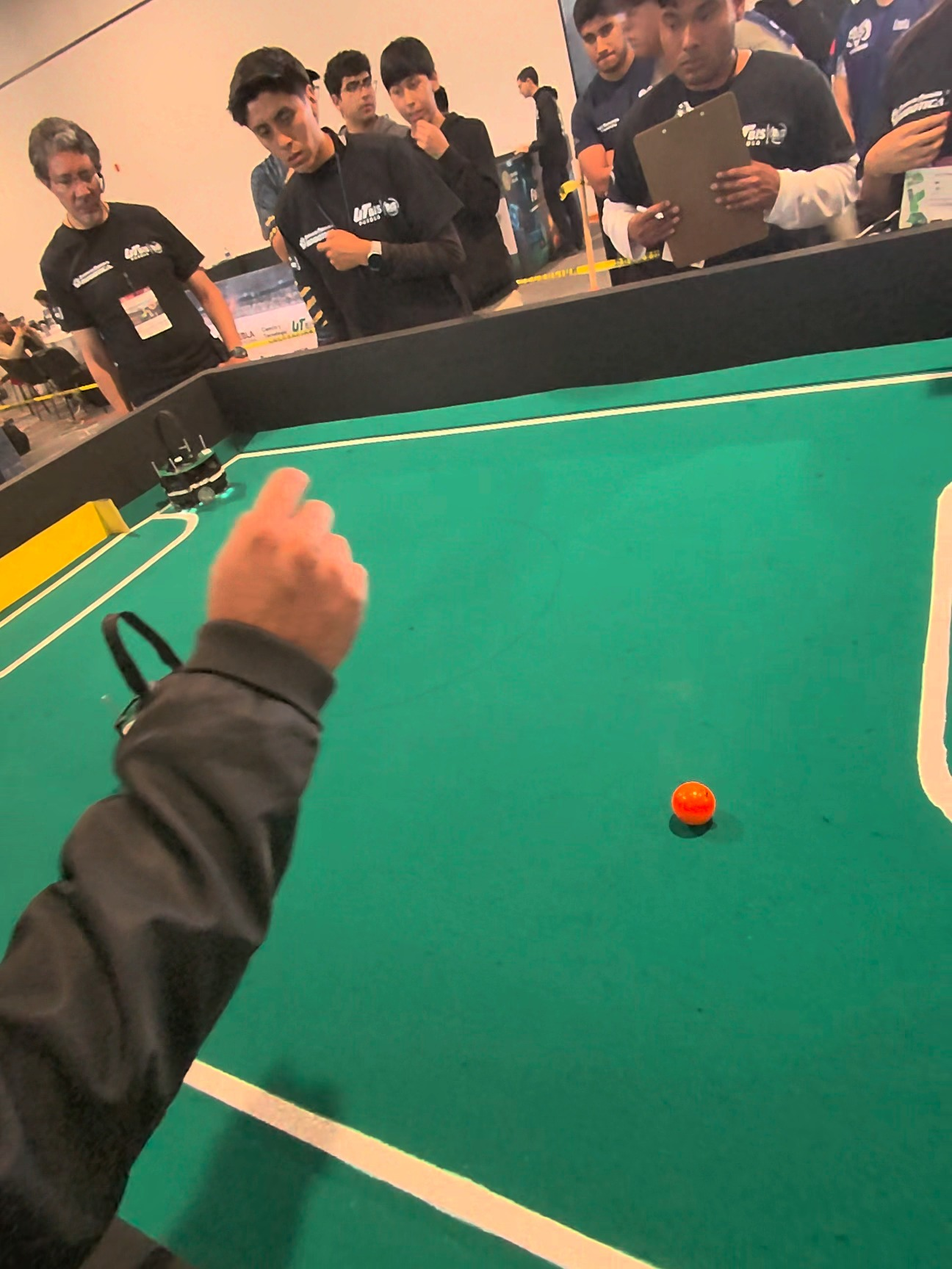Robot: (144, 409, 245, 518)
pelota: (671, 775, 717, 832)
